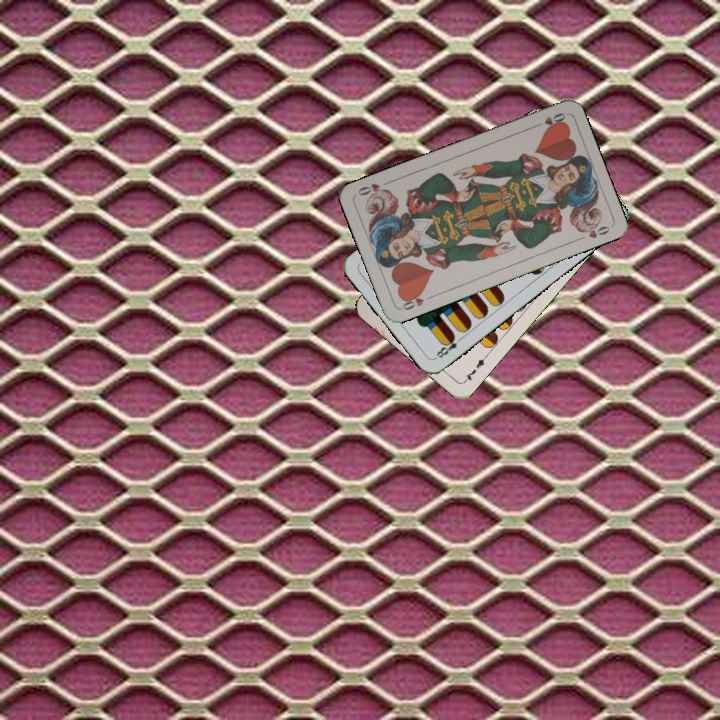E7: (460, 351, 490, 385)
E8: (431, 331, 466, 361)
HO: (397, 288, 436, 313), (529, 109, 568, 131)
